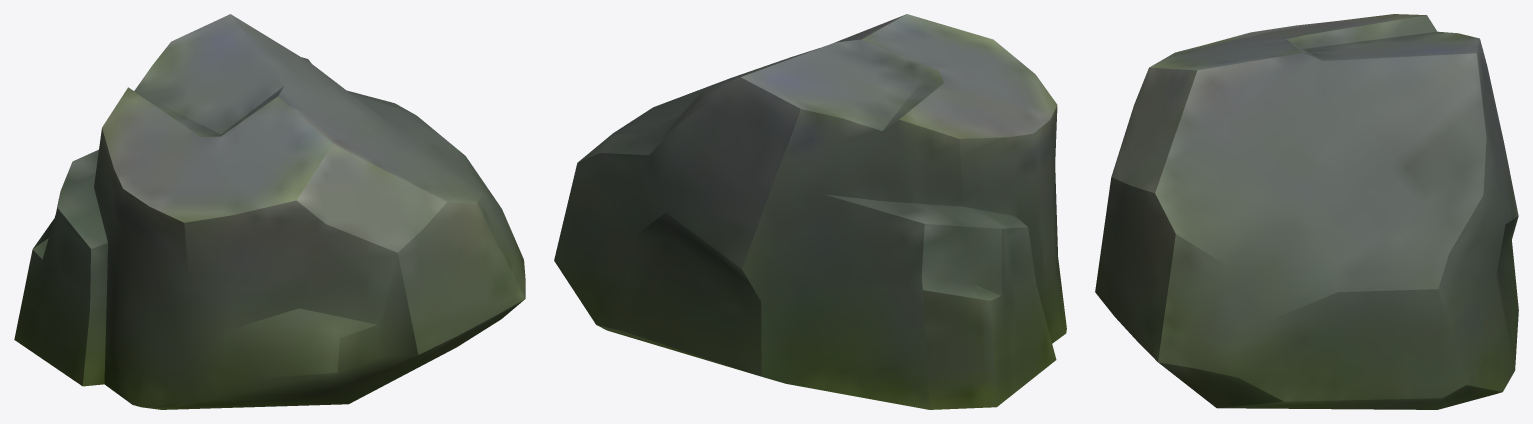
The model's file is sn_rock_medium_2.glb.
3 renders of one model, left to right at view 1: azimuth 30°, elevation 25°; view 2: azimuth 150°, elevation 25°; view 3: azimuth 270°, elevation 25°, orthographic. The views are drawn at different scales.
Visible parts, largest first — view 1: Rock_Medium_2; view 2: Rock_Medium_2; view 3: Rock_Medium_2.
Part boxes in pixels (bbox=[...]): Rock_Medium_2: bbox=[14, 14, 525, 409]; Rock_Medium_2: bbox=[554, 14, 1066, 409]; Rock_Medium_2: bbox=[1095, 14, 1518, 409].
Bounding box in the file's own units: 3.05 × 1.9 × 2.48.
1 material, 1 textured.
